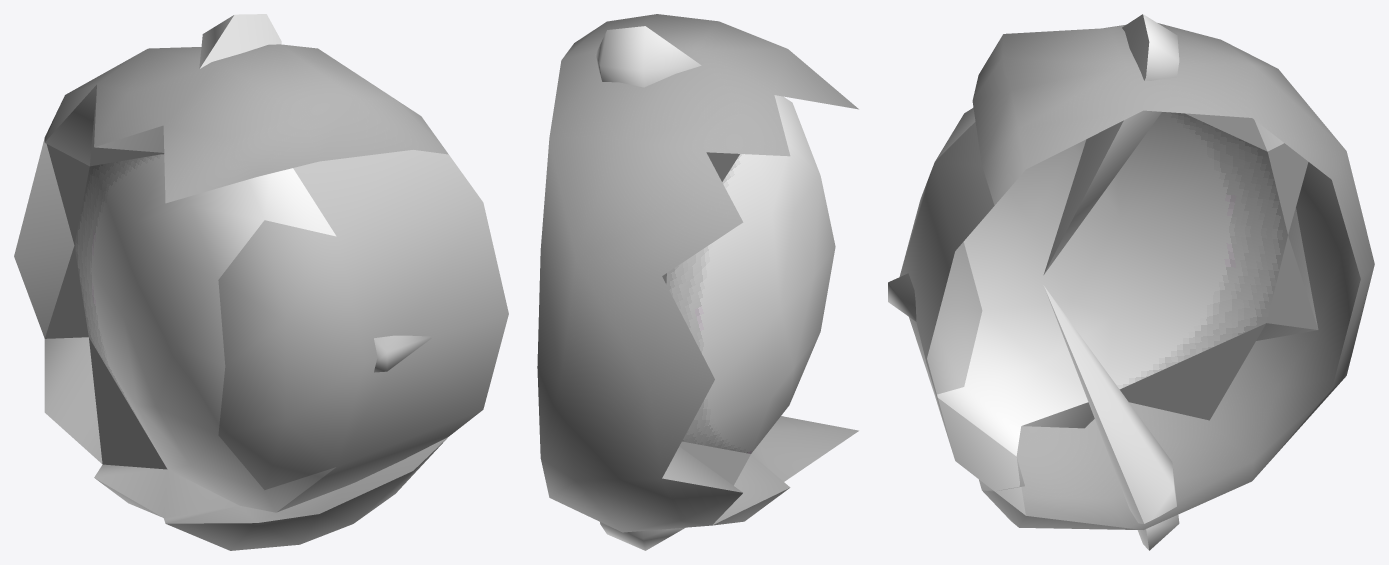
File: girl10b.dae
3 views of the same model, side by side, from view 1: azimuth 30°, elevation 25°; view 2: azimuth 150°, elevation 25°; view 3: azimuth 270°, elevation 25° (orthographic).
Visible parts, largest first — view 1: vsn_mesh_1_, vsn_mesh_0_, vsn_mesh_2_; view 2: vsn_mesh_1_; view 3: vsn_mesh_1_, vsn_mesh_0_, vsn_mesh_2_.
Boxes of the visible parts, x1=… form: vsn_mesh_1_: x1=14, y1=14, x2=448, y2=550; vsn_mesh_0_: x1=277, y1=150, x2=508, y2=512; vsn_mesh_2_: x1=218, y1=220, x2=364, y2=490; vsn_mesh_1_: x1=537, y1=14, x2=858, y2=550; vsn_mesh_1_: x1=935, y1=14, x2=1374, y2=550; vsn_mesh_0_: x1=888, y1=122, x2=1025, y2=515; vsn_mesh_2_: x1=899, y1=164, x2=982, y2=394.
Size of the model in its own units: 16.67 by 26.71 by 22.23.
